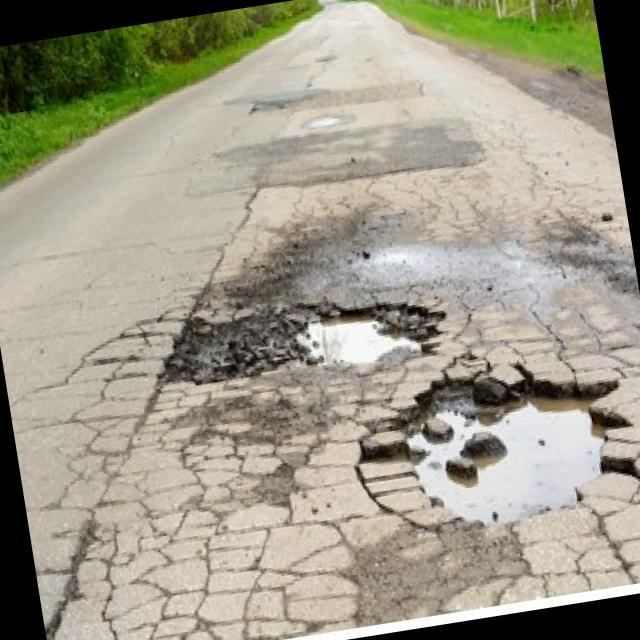Pothole: (385, 339, 640, 545), (279, 278, 454, 383)
